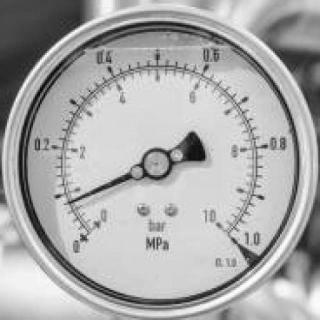gauge: (0, 0, 320, 320), (198, 205, 252, 258), (67, 205, 114, 259), (143, 147, 173, 181), (61, 197, 78, 208)
